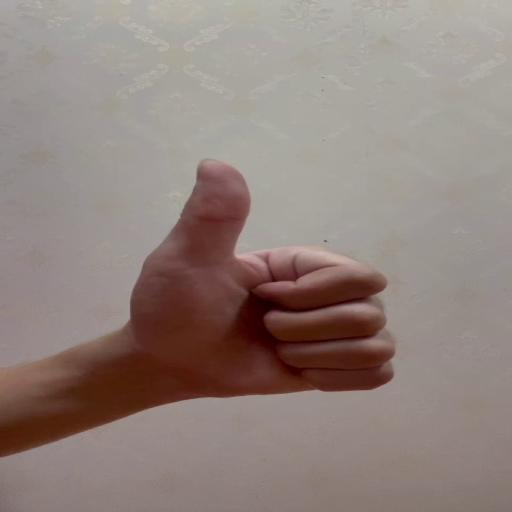thumbs_up: (135, 154, 398, 398)
